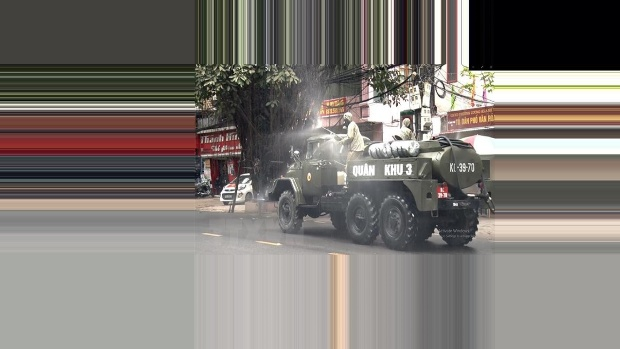plate: (435, 185, 450, 200)
